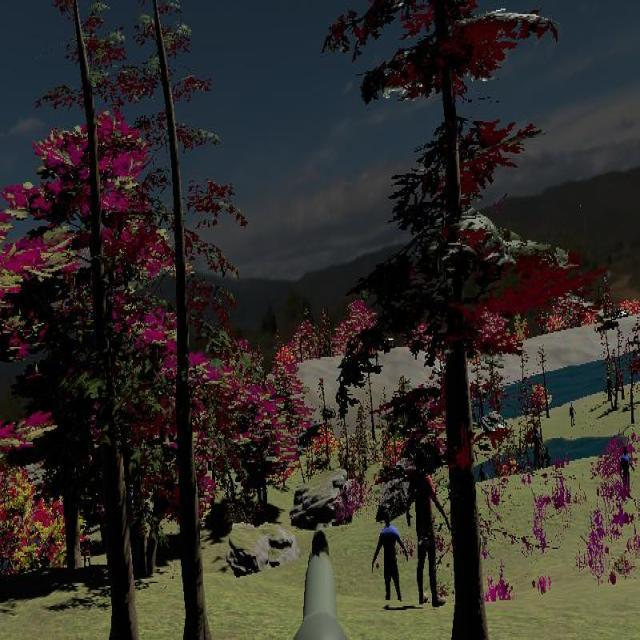Tank: (481, 409, 511, 440)
